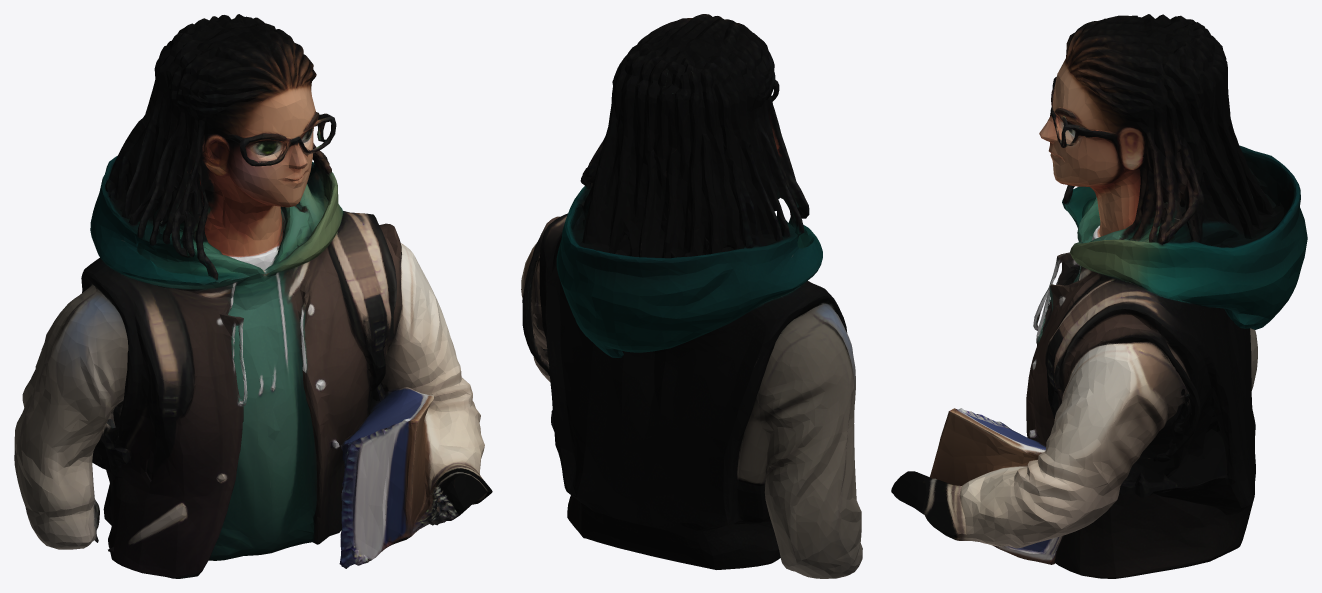
File: Boy2boutique.glb
3 renders of one model, left to right at view 1: azimuth 30°, elevation 25°; view 2: azimuth 150°, elevation 25°; view 3: azimuth 270°, elevation 25°, orthographic.
Visible parts, largest first — view 1: world; view 2: world; view 3: world.
Boxes of the visible parts, x1=… form: world: x1=14, y1=14, x2=492, y2=578; world: x1=521, y1=14, x2=862, y2=578; world: x1=891, y1=14, x2=1307, y2=578.
Size of the model in its own units: 0.8111 by 1 by 0.7648.
Materials: 1 (1 with a texture image).
